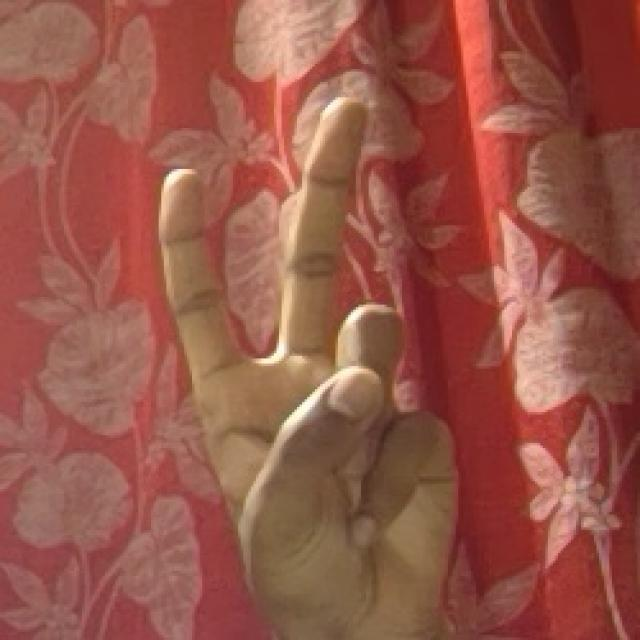Numeric-2: (160, 93, 462, 617)
